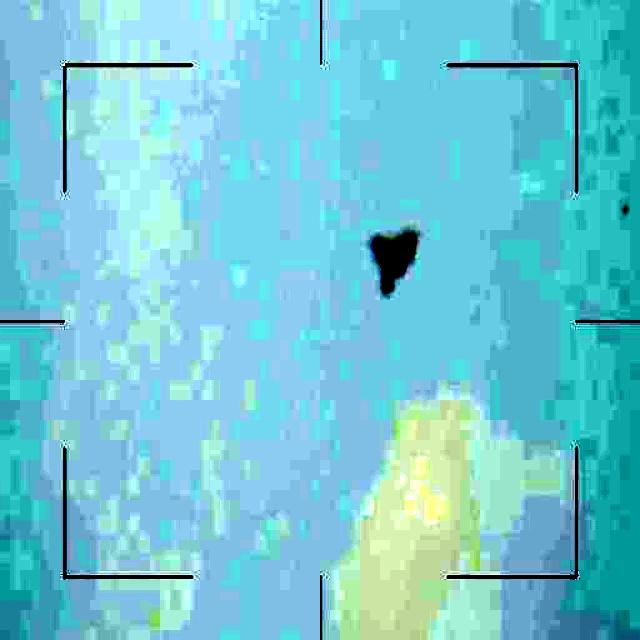bird: (366, 216, 418, 290)
